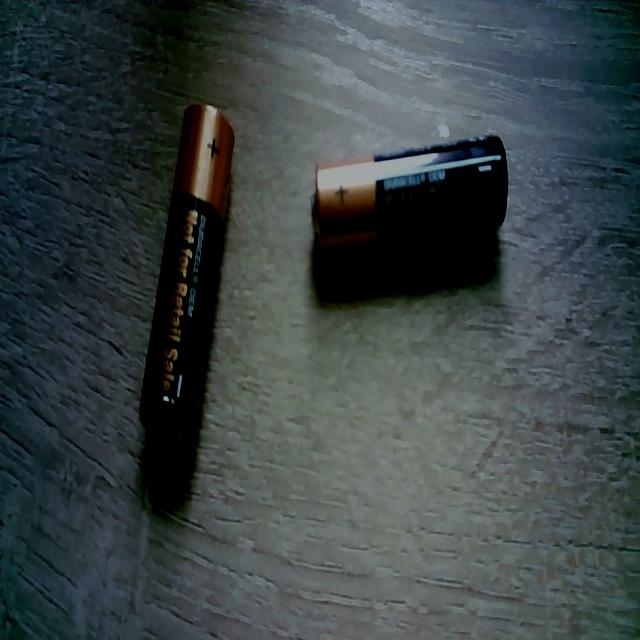AA: (139, 101, 235, 446), (311, 132, 508, 258)
